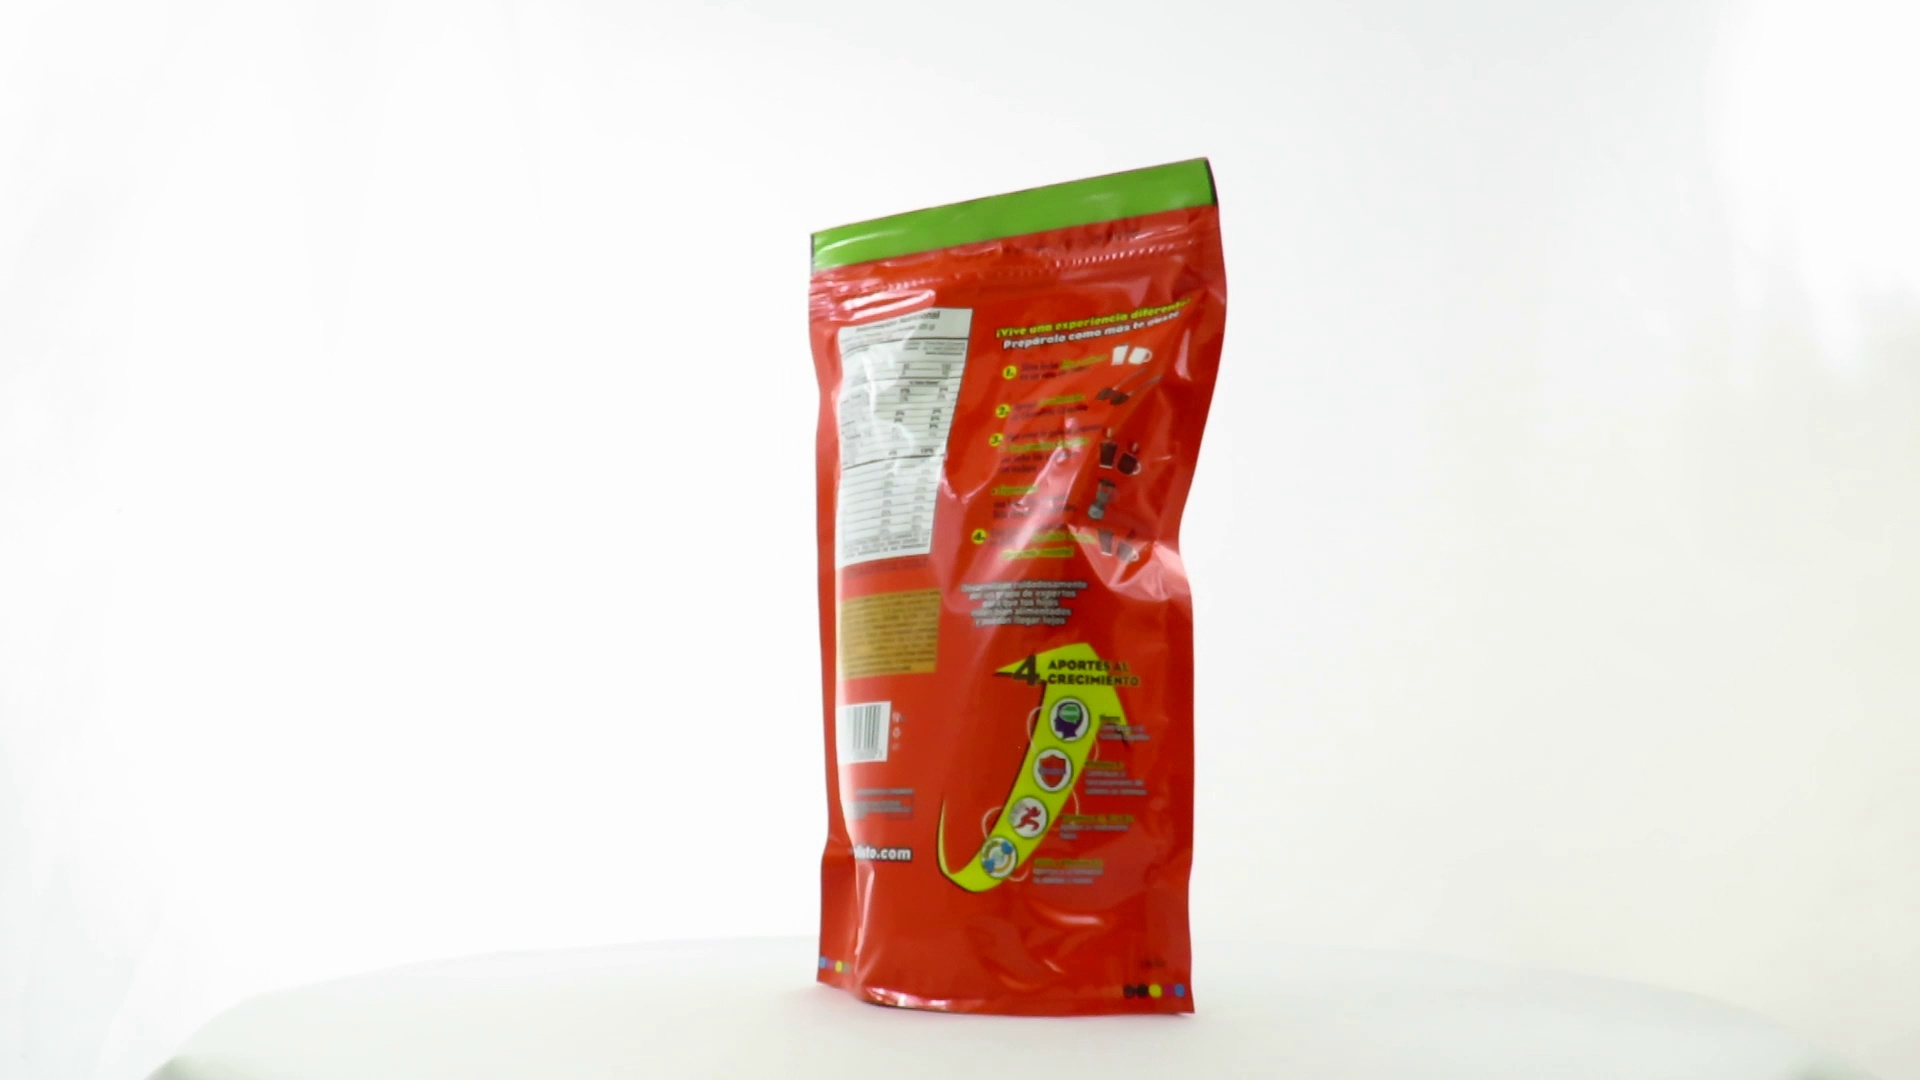COL0170102DYP50000: (803, 152, 1233, 1025)
